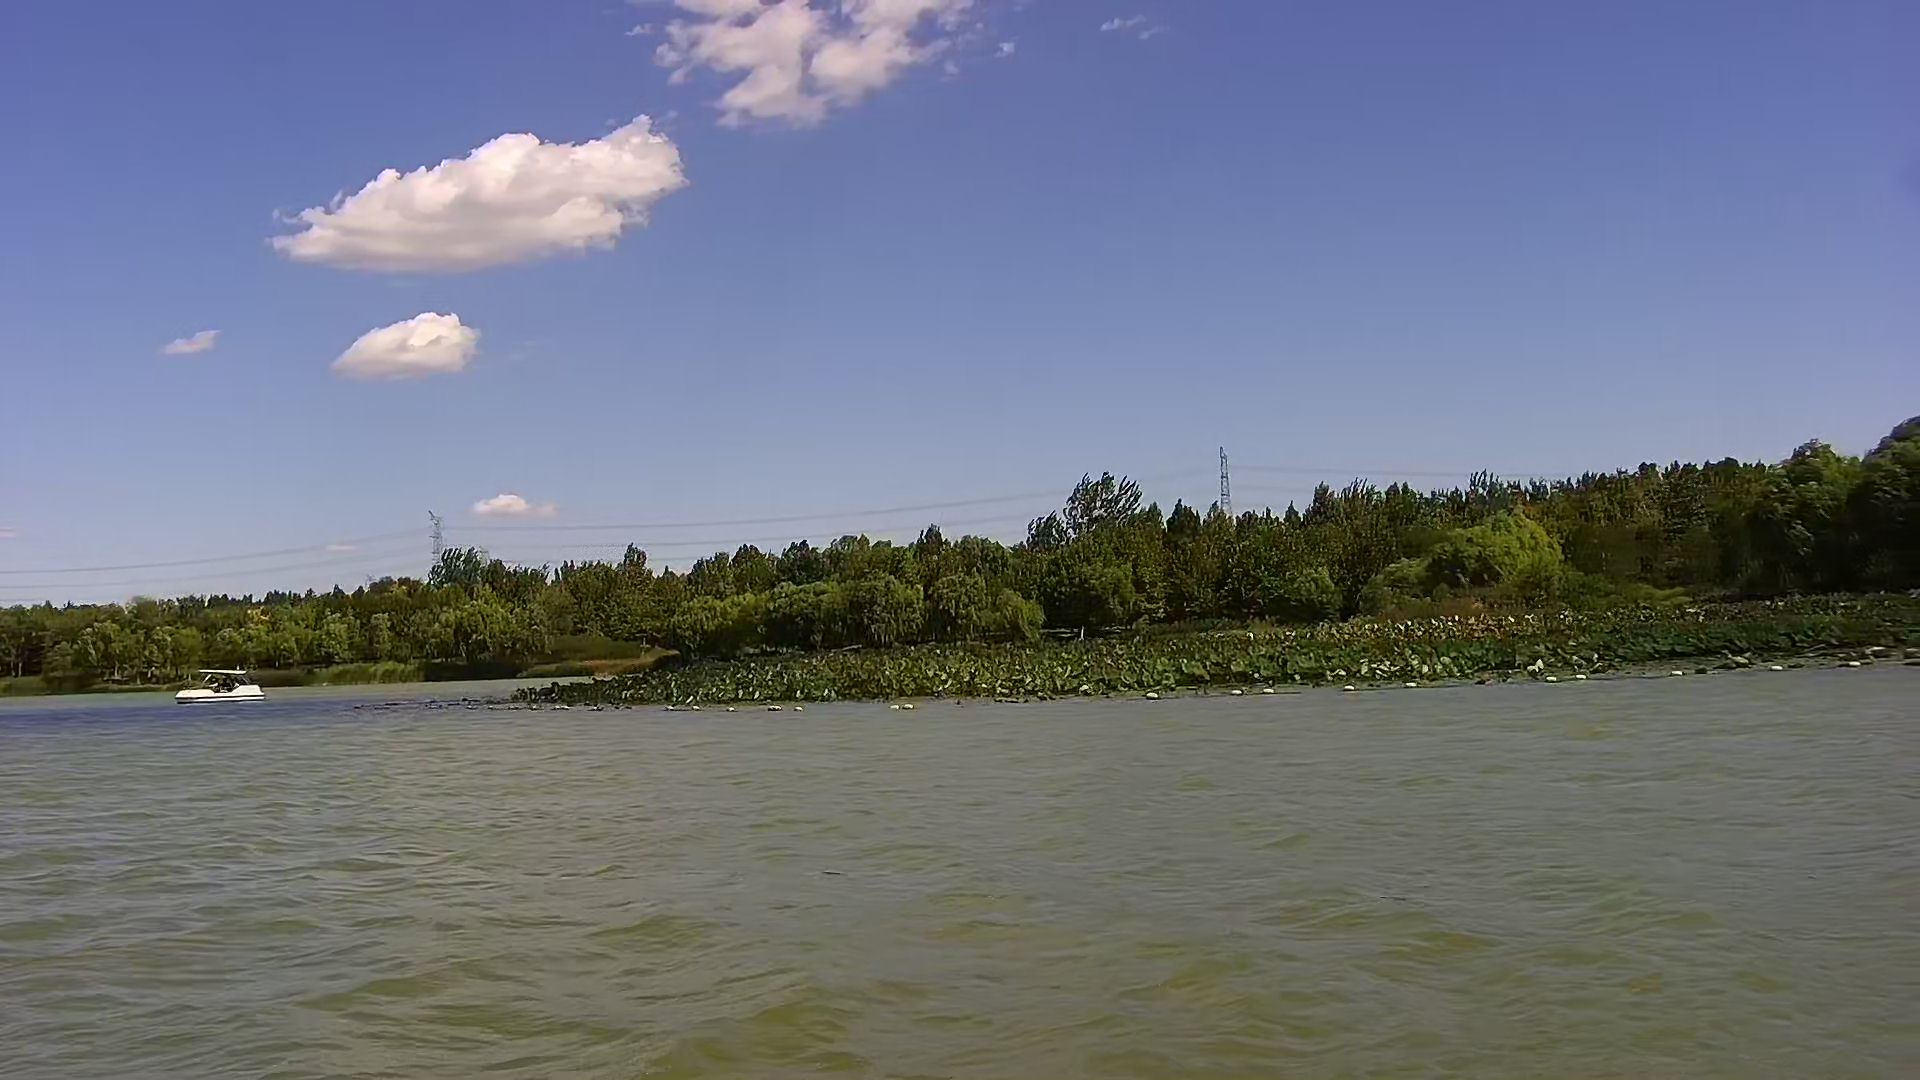boat: (167, 661, 272, 705)
